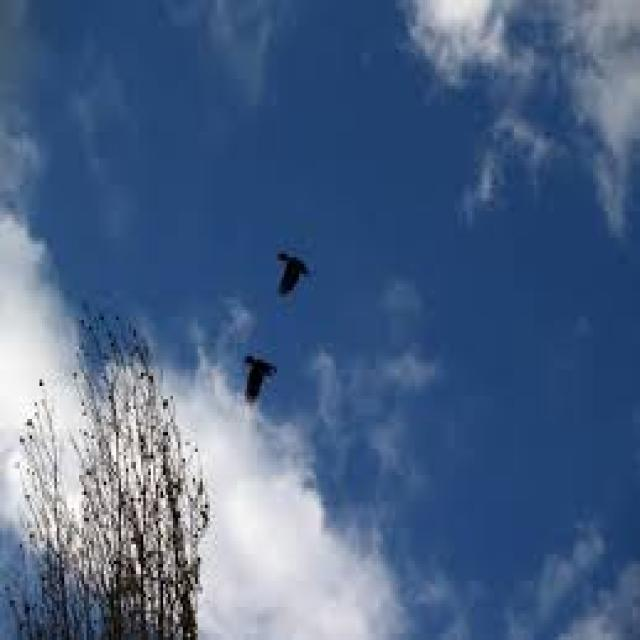bird: (194, 336, 300, 468), (266, 231, 348, 336)
